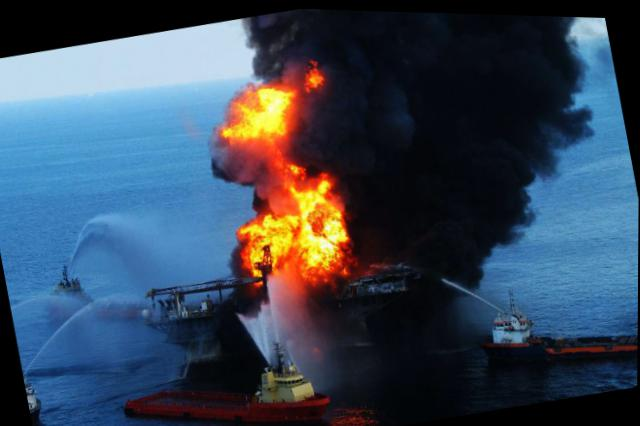fire: (292, 175, 354, 275), (227, 85, 294, 142), (242, 209, 304, 266), (280, 159, 304, 181), (303, 65, 323, 87)
